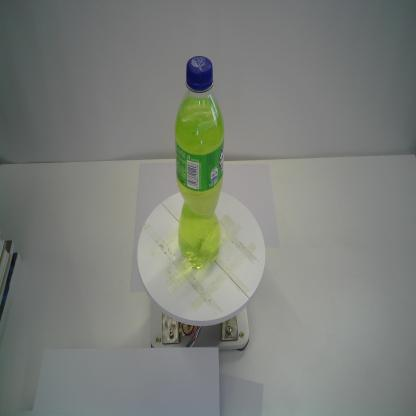Drink: (174, 54, 225, 270)
